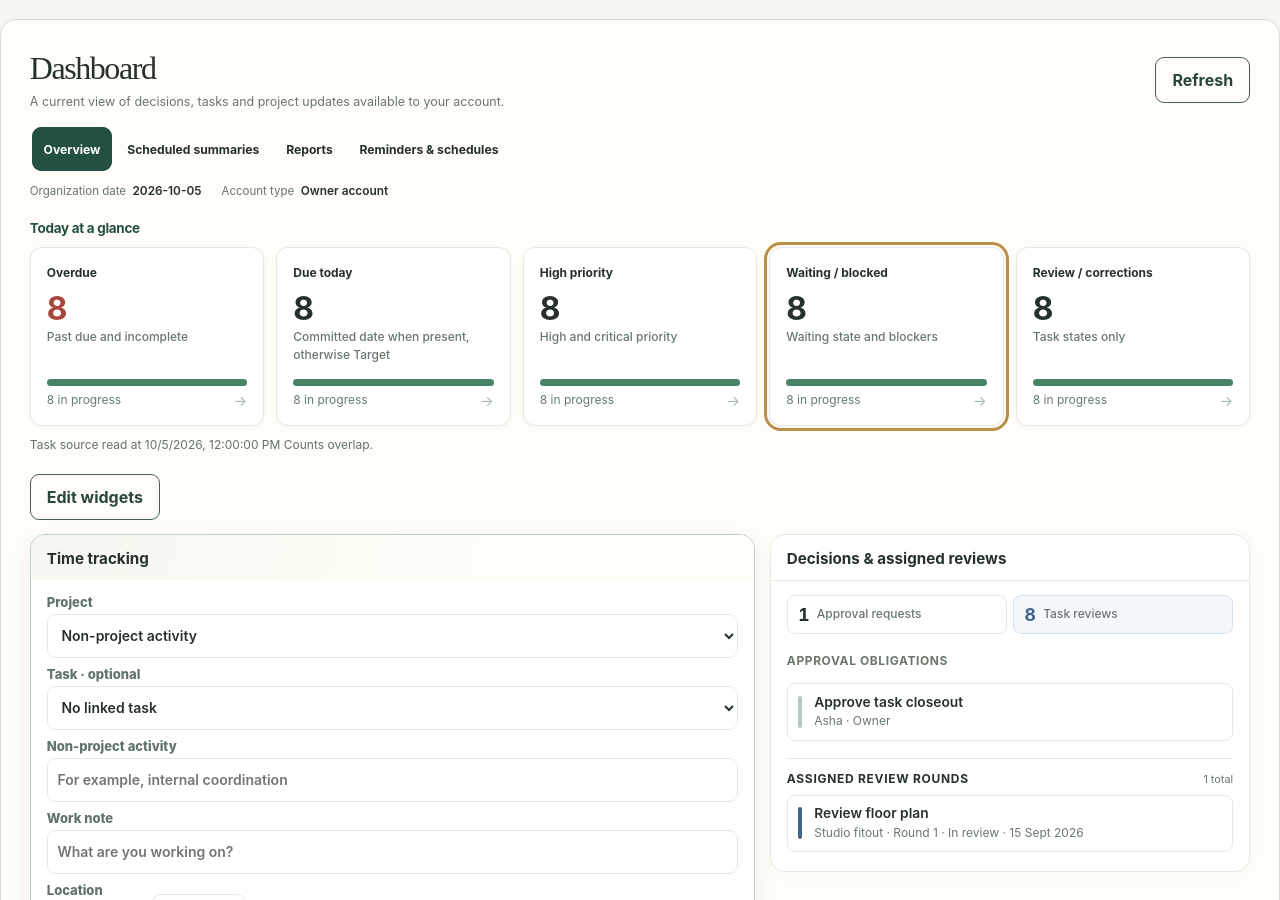
Test: DashboardWorkspace › opens every Waiting / blocked source row in a contextual panel without navigating
Expected: the 4th text "8" is shown, [786,289,806,328]
Click the button with aria-label "Waiting / blocked · 8 matching tasks": (886, 337) [769,247,1004,426]
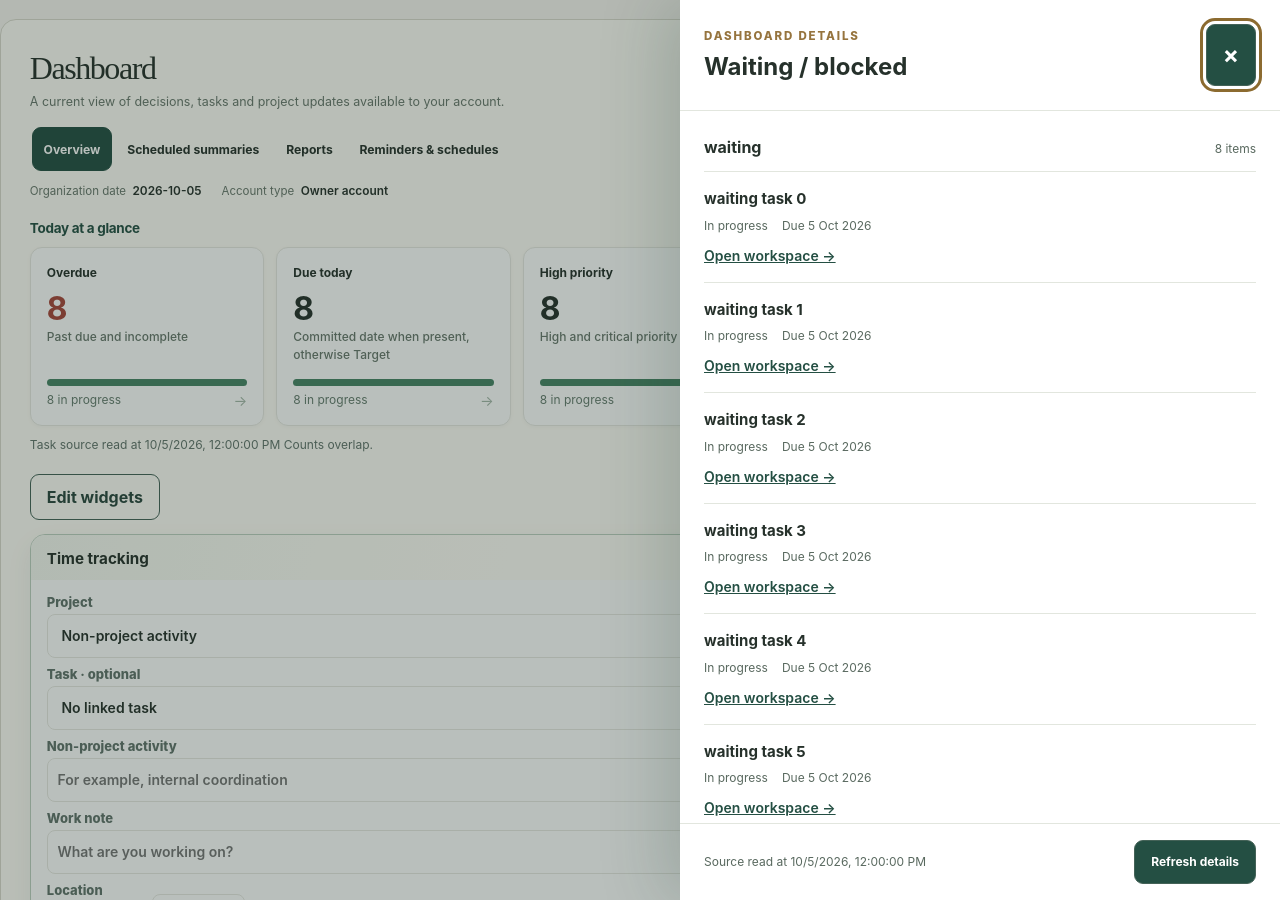
Click the button named "Close dashboard details": (1231, 55) [1206,24,1256,86]
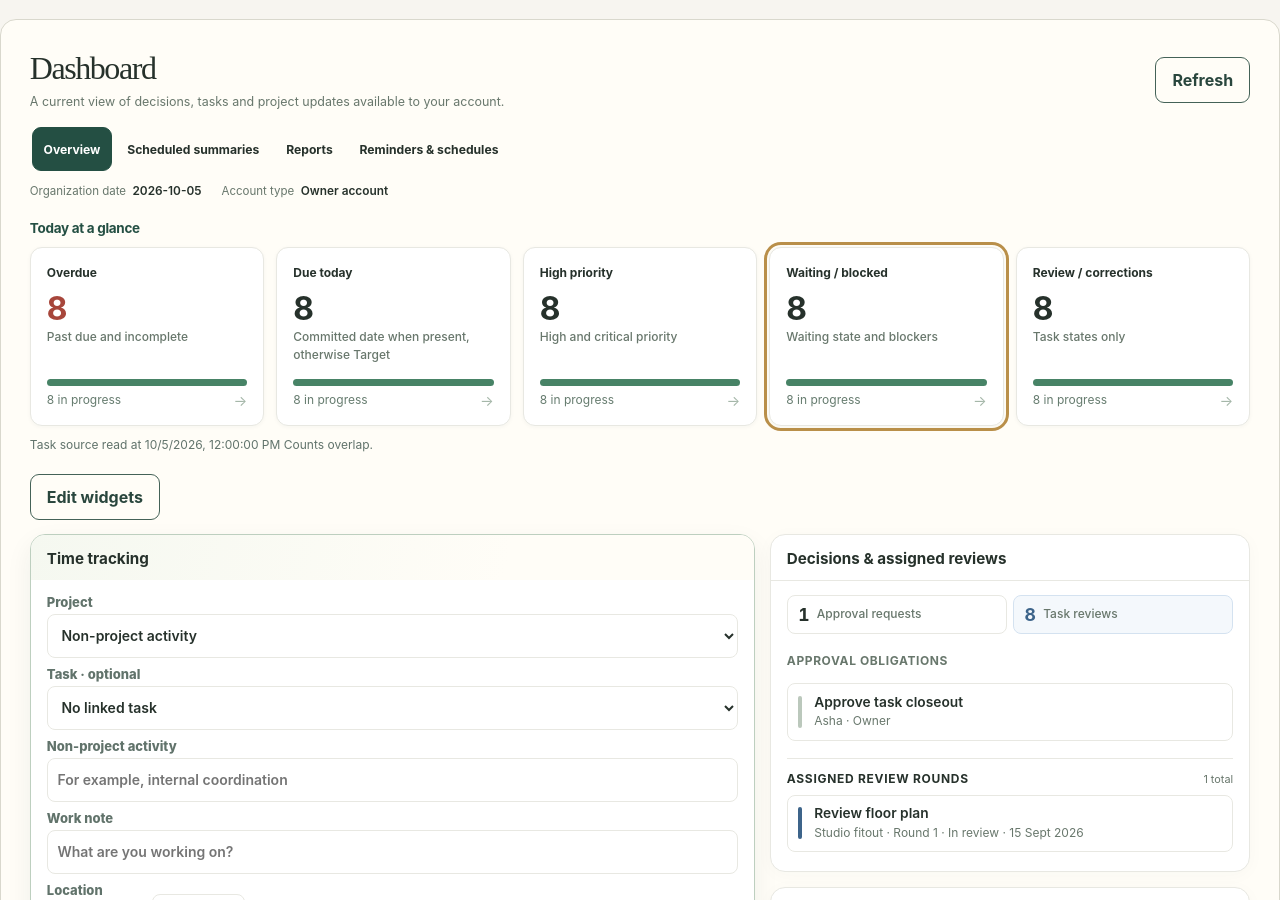
Expected: the heading "Dashboard" is shown, [30,50,156,86]
Now the dialog is gone
